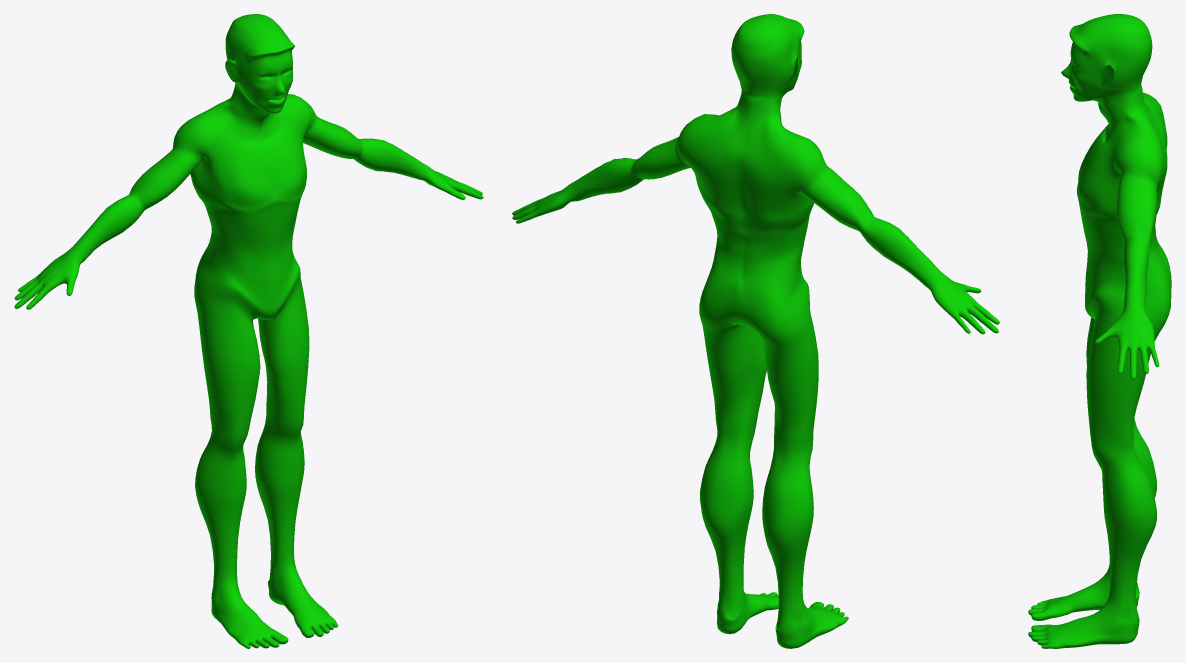
The model's file is basketballPlayer skin.obj.
The picture shows the model from 3 angles, left to right: view 1: azimuth 30°, elevation 25°; view 2: azimuth 150°, elevation 25°; view 3: azimuth 270°, elevation 25°; orthographic projection. The views are drawn at different scales.
Parts seen in each view (by area): view 1: GenericMesh1; view 2: GenericMesh1; view 3: GenericMesh1.
Part boxes in pixels (x1,y1,x2,y2): GenericMesh1: (14, 14, 483, 648); GenericMesh1: (512, 14, 999, 648); GenericMesh1: (1028, 14, 1171, 648).
Size of the model in its own units: 29.33 by 35.59 by 7.6.
